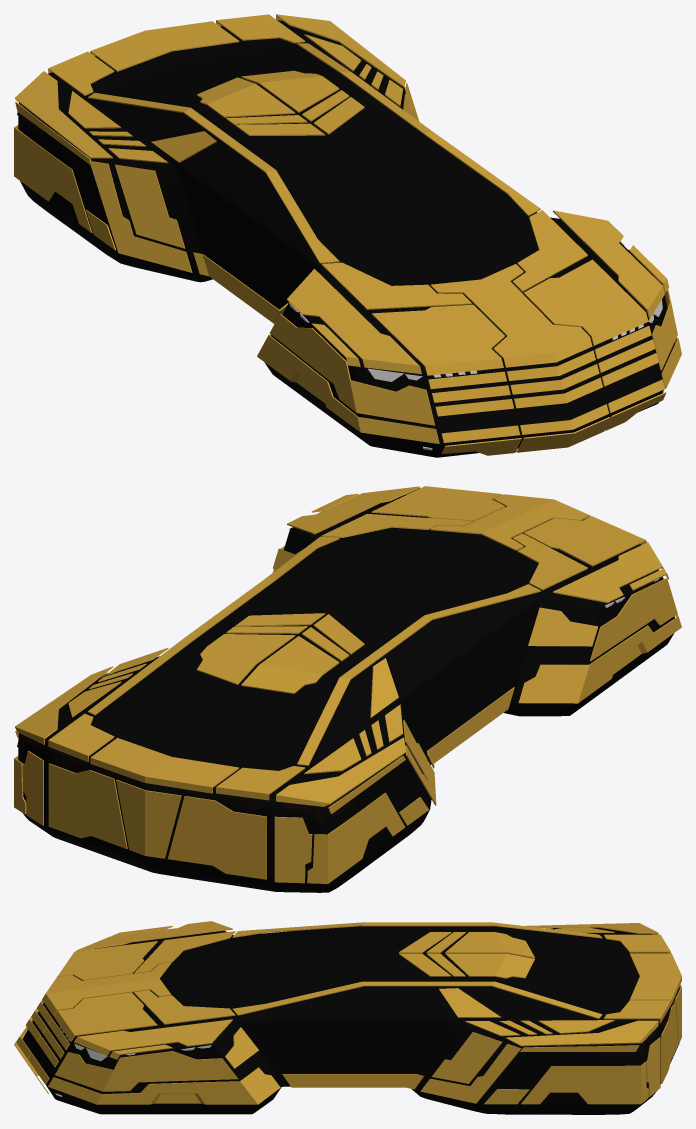
The model's file is car.obj.
3 renders of one model, top to bottom at view 1: azimuth 30°, elevation 25°; view 2: azimuth 150°, elevation 25°; view 3: azimuth 270°, elevation 25°, orthographic. The views are drawn at different scales.
Parts seen in each view (by area): view 1: chasis_Cube.010, frame_Cube.008, frontlights_Cube.014; view 2: chasis_Cube.010, frame_Cube.008, backlights_Cube.015; view 3: frame_Cube.008, chasis_Cube.010, backlights_Cube.015, frontlights_Cube.014.
Boxes of the visible parts, bbox=[...] form: chasis_Cube.010: bbox=[14, 14, 681, 455]; frame_Cube.008: bbox=[18, 20, 674, 457]; frontlights_Cube.014: bbox=[289, 241, 664, 450]; chasis_Cube.010: bbox=[14, 486, 681, 883]; frame_Cube.008: bbox=[18, 494, 674, 892]; backlights_Cube.015: bbox=[17, 734, 355, 821]; frame_Cube.008: bbox=[22, 926, 679, 1114]; chasis_Cube.010: bbox=[14, 921, 681, 1104]; backlights_Cube.015: bbox=[598, 952, 675, 1056]; frontlights_Cube.014: bbox=[55, 1026, 211, 1096].
Bounding box in the file's own units: 3.49 × 1.42 × 8.09.
